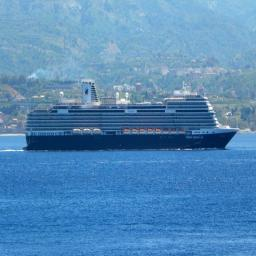cruises: (24, 81, 242, 158)
